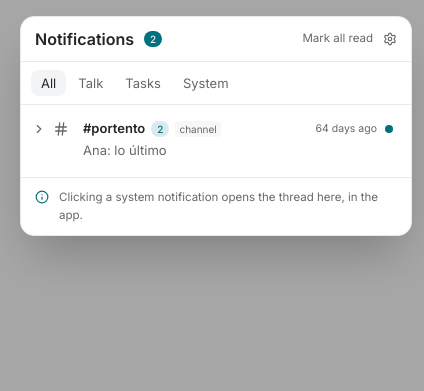
plegar lo del mismo sitio › y al abrirla salen las dos
The image size is (424, 391).
Step 1. Click the button named "Expand " → (39, 129), box x1=29 y1=119 x2=49 y2=139
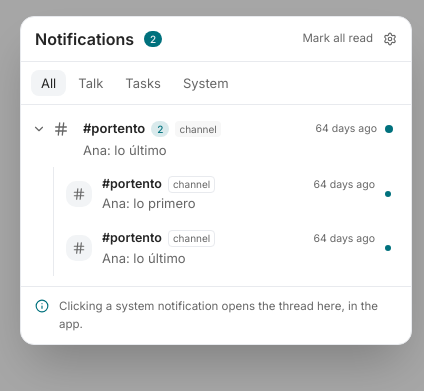
Now the text "Ana: lo primero" is shown, box x1=102 y1=195 x2=196 y2=211
